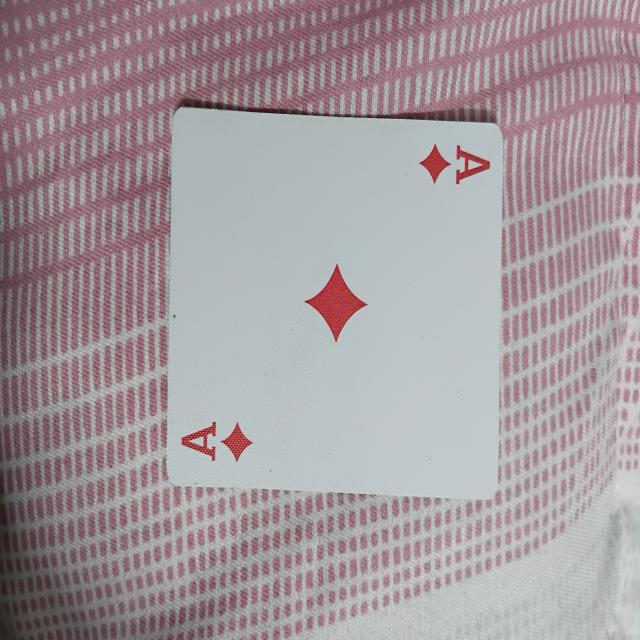AD: (167, 112, 506, 494)
